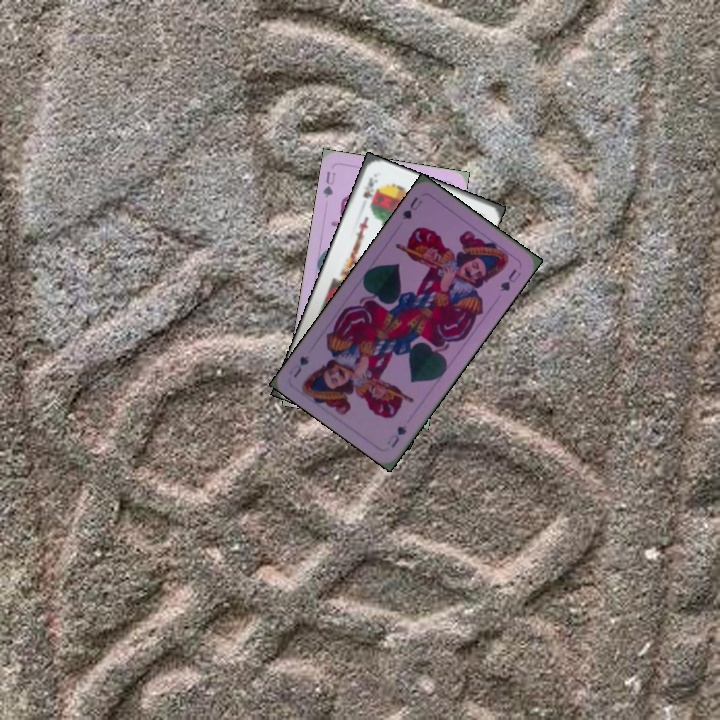GU: (398, 193, 425, 223), (383, 421, 409, 450), (319, 167, 338, 200)
SK: (359, 173, 380, 201)
